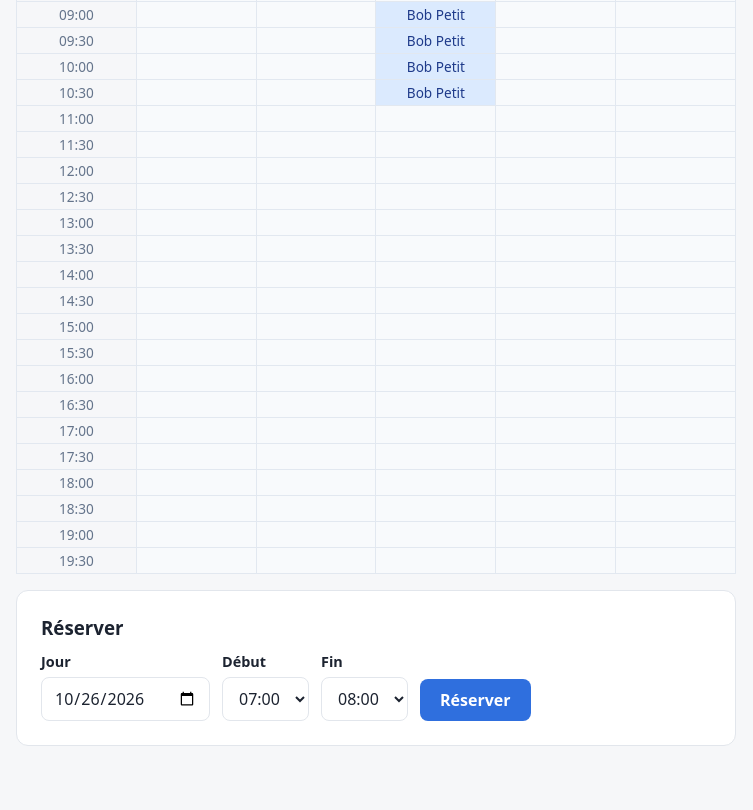
it: PlanningPage › envoie la réservation à l’API, au nom de personne d’autre que soi
(page scrolled)
Select "08:00" in the dropdown labelled "Début". click: (266, 699)
box: [222,677,309,721]
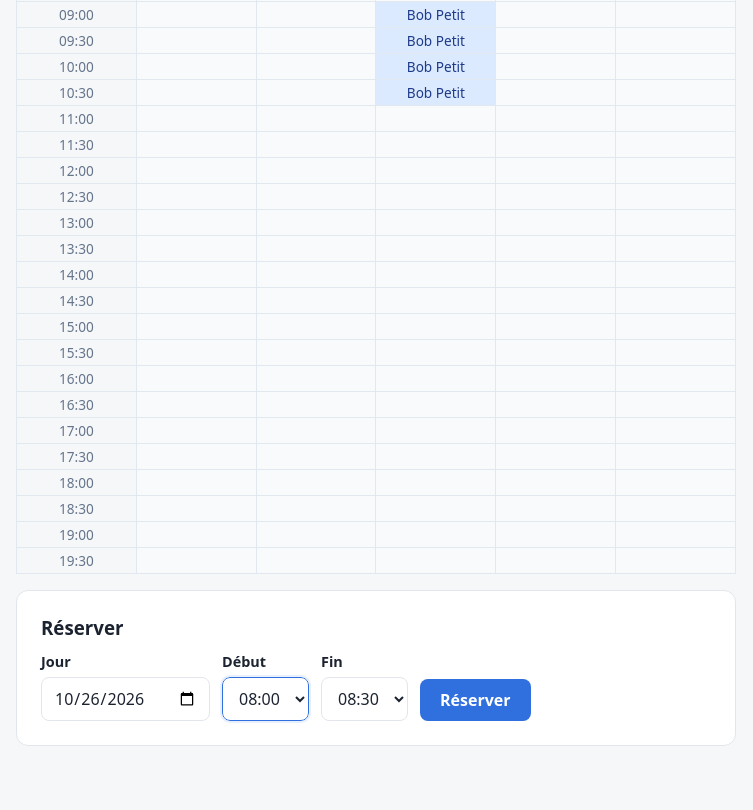
Select "10:00" in the dropdown labelled "Fin". click: (364, 699)
box: [321,677,408,721]
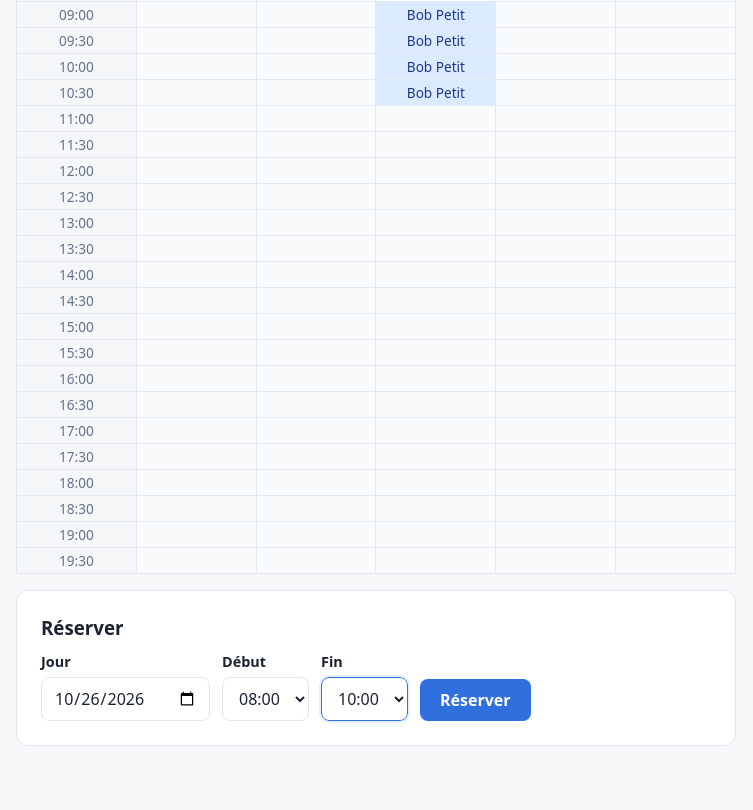
Click the button "Réserver". click: (475, 700)
box: [420,679,530,721]
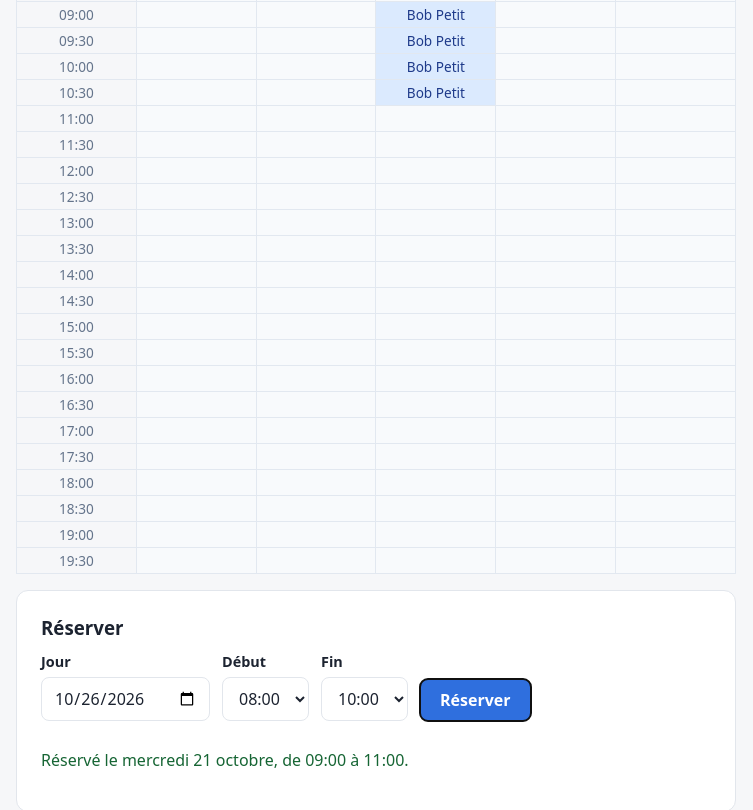
Check: the message shows "Réservé le", box [41,749,122,771]
